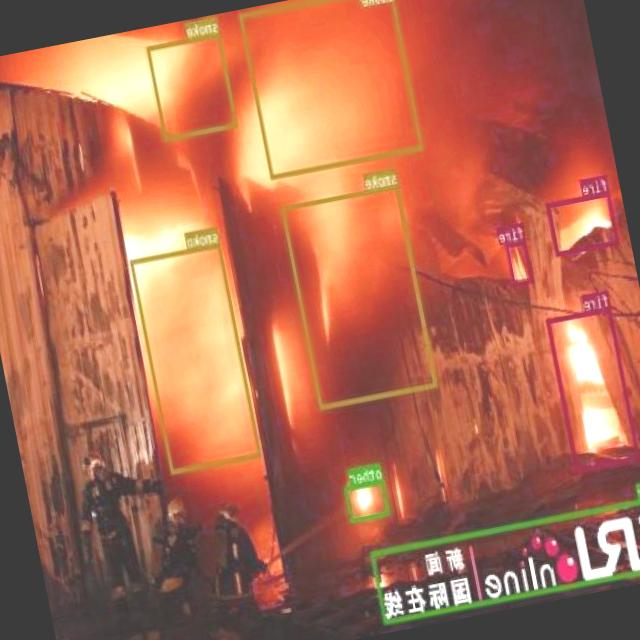fire: (546, 304, 640, 471), (546, 191, 620, 256), (505, 239, 535, 285)
smoke: (282, 184, 438, 408), (239, 0, 424, 179), (130, 242, 262, 475), (146, 31, 238, 141)
